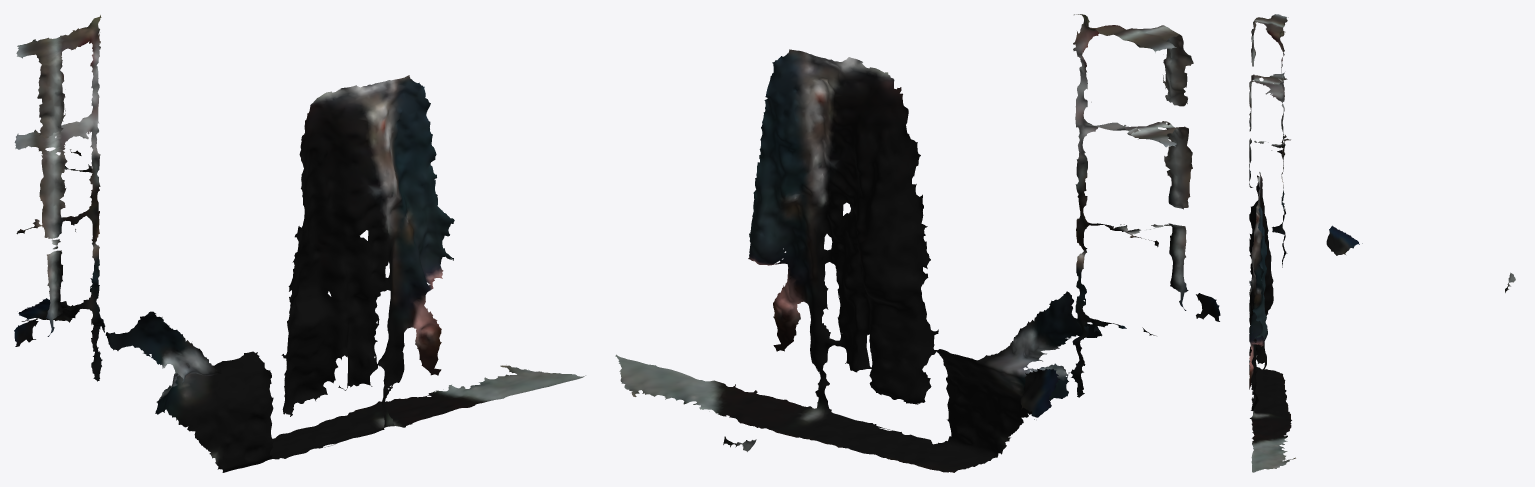
Rendered from color_model_f004_20251226_161541.obj.
3 renders of one model, left to right at view 1: azimuth 30°, elevation 25°; view 2: azimuth 150°, elevation 25°; view 3: azimuth 270°, elevation 25°, orthographic. The views are drawn at different scales.
Size of the model in its own units: 2.12 by 1.65 by 1.35.
